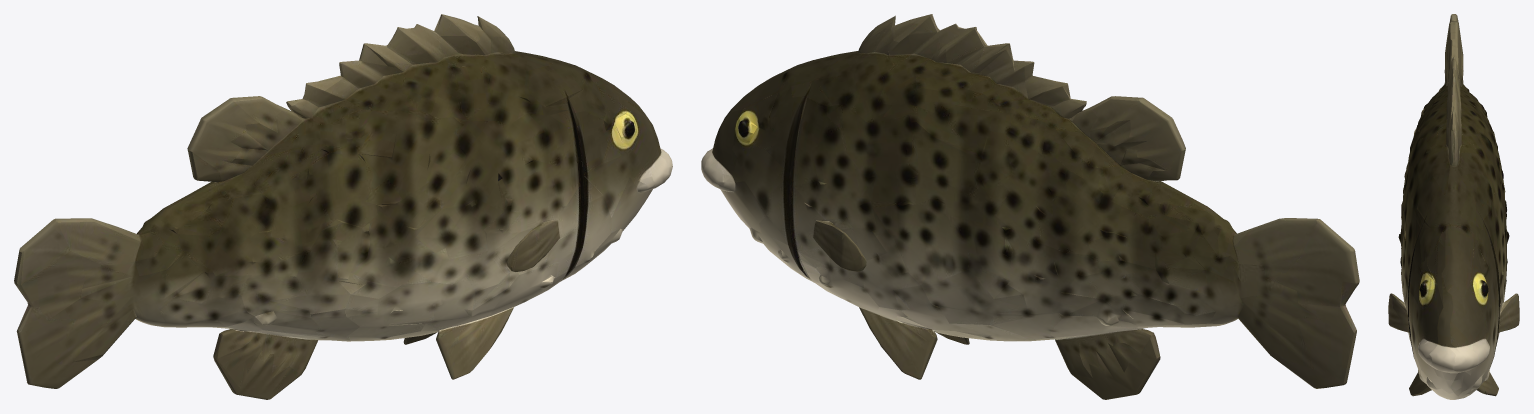
File: rock_bass.glb
3 views of the same model, side by side, from view 1: azimuth 30°, elevation 25°; view 2: azimuth 150°, elevation 25°; view 3: azimuth 270°, elevation 25° (orthographic). The views are drawn at different scales.
Visible parts, largest first — view 1: fish; view 2: fish; view 3: fish.
Boxes of the visible parts, <box> form: fish: <box>14,14,672,399</box>; fish: <box>701,14,1359,399</box>; fish: <box>1388,14,1519,399</box>.
Bounding box in the file's own units: 1 × 0.5047 × 0.1925.
Materials: 1 (1 with a texture image).
